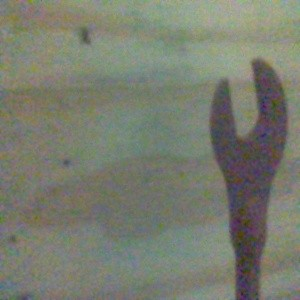spanner: (208, 57, 289, 300)
